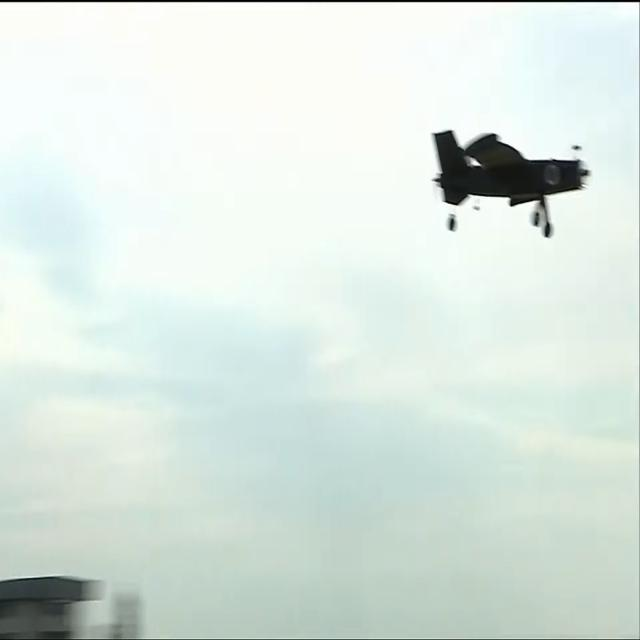iha: (428, 159, 593, 210)
